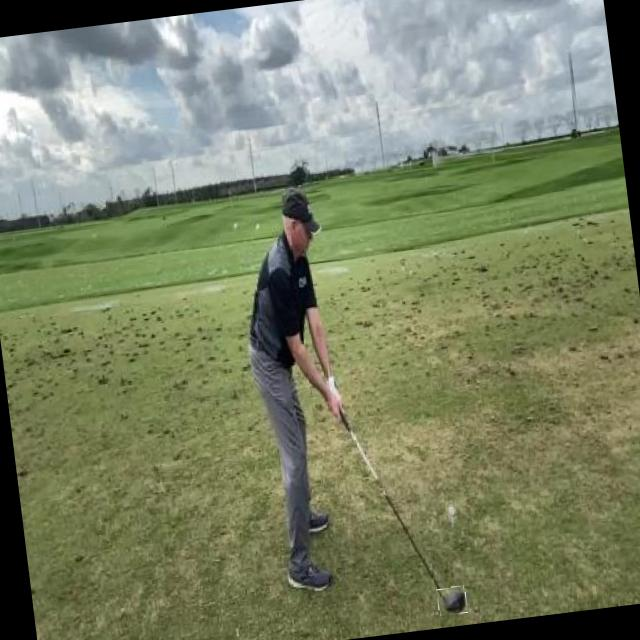club head: (437, 586, 468, 616)
